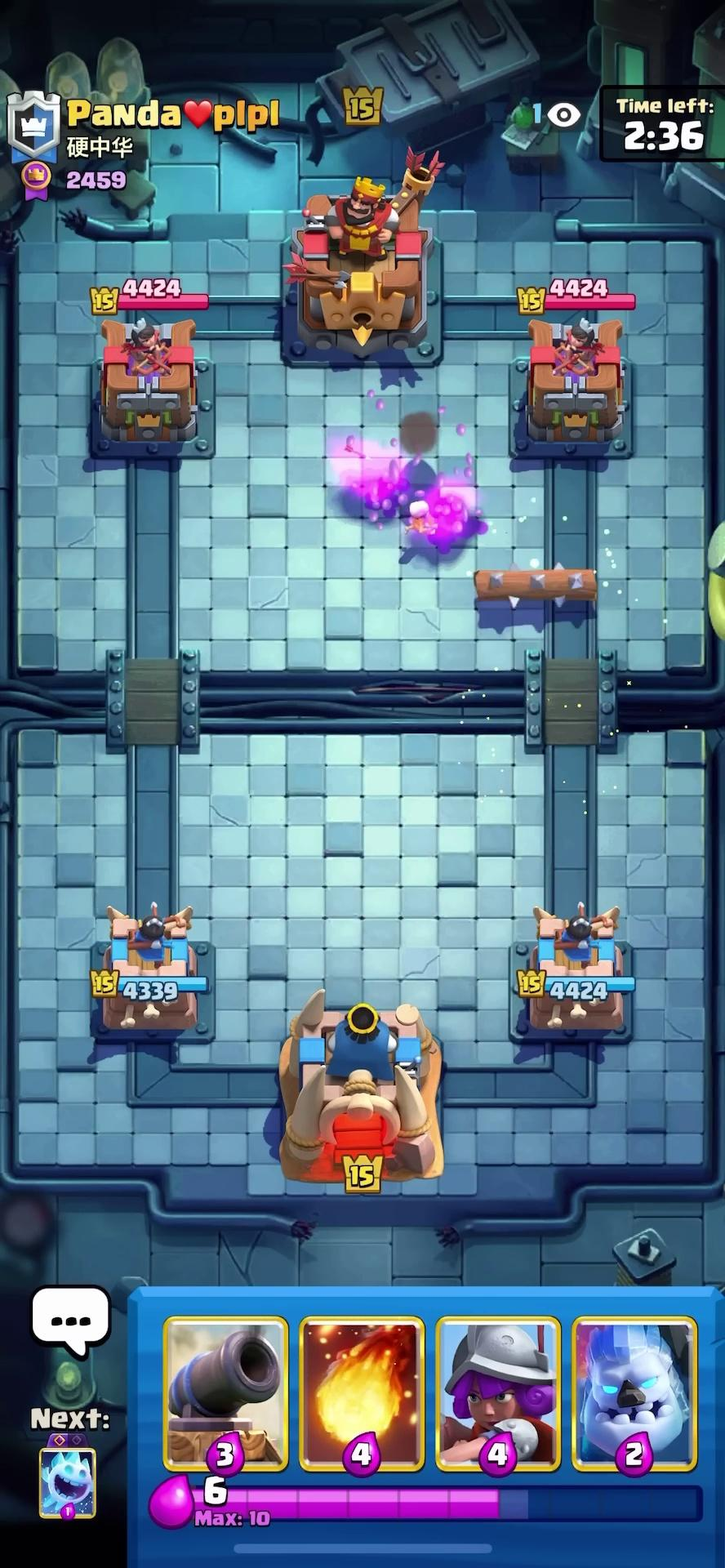log: (459, 559, 618, 608)
skeletons: (400, 484, 441, 539)
